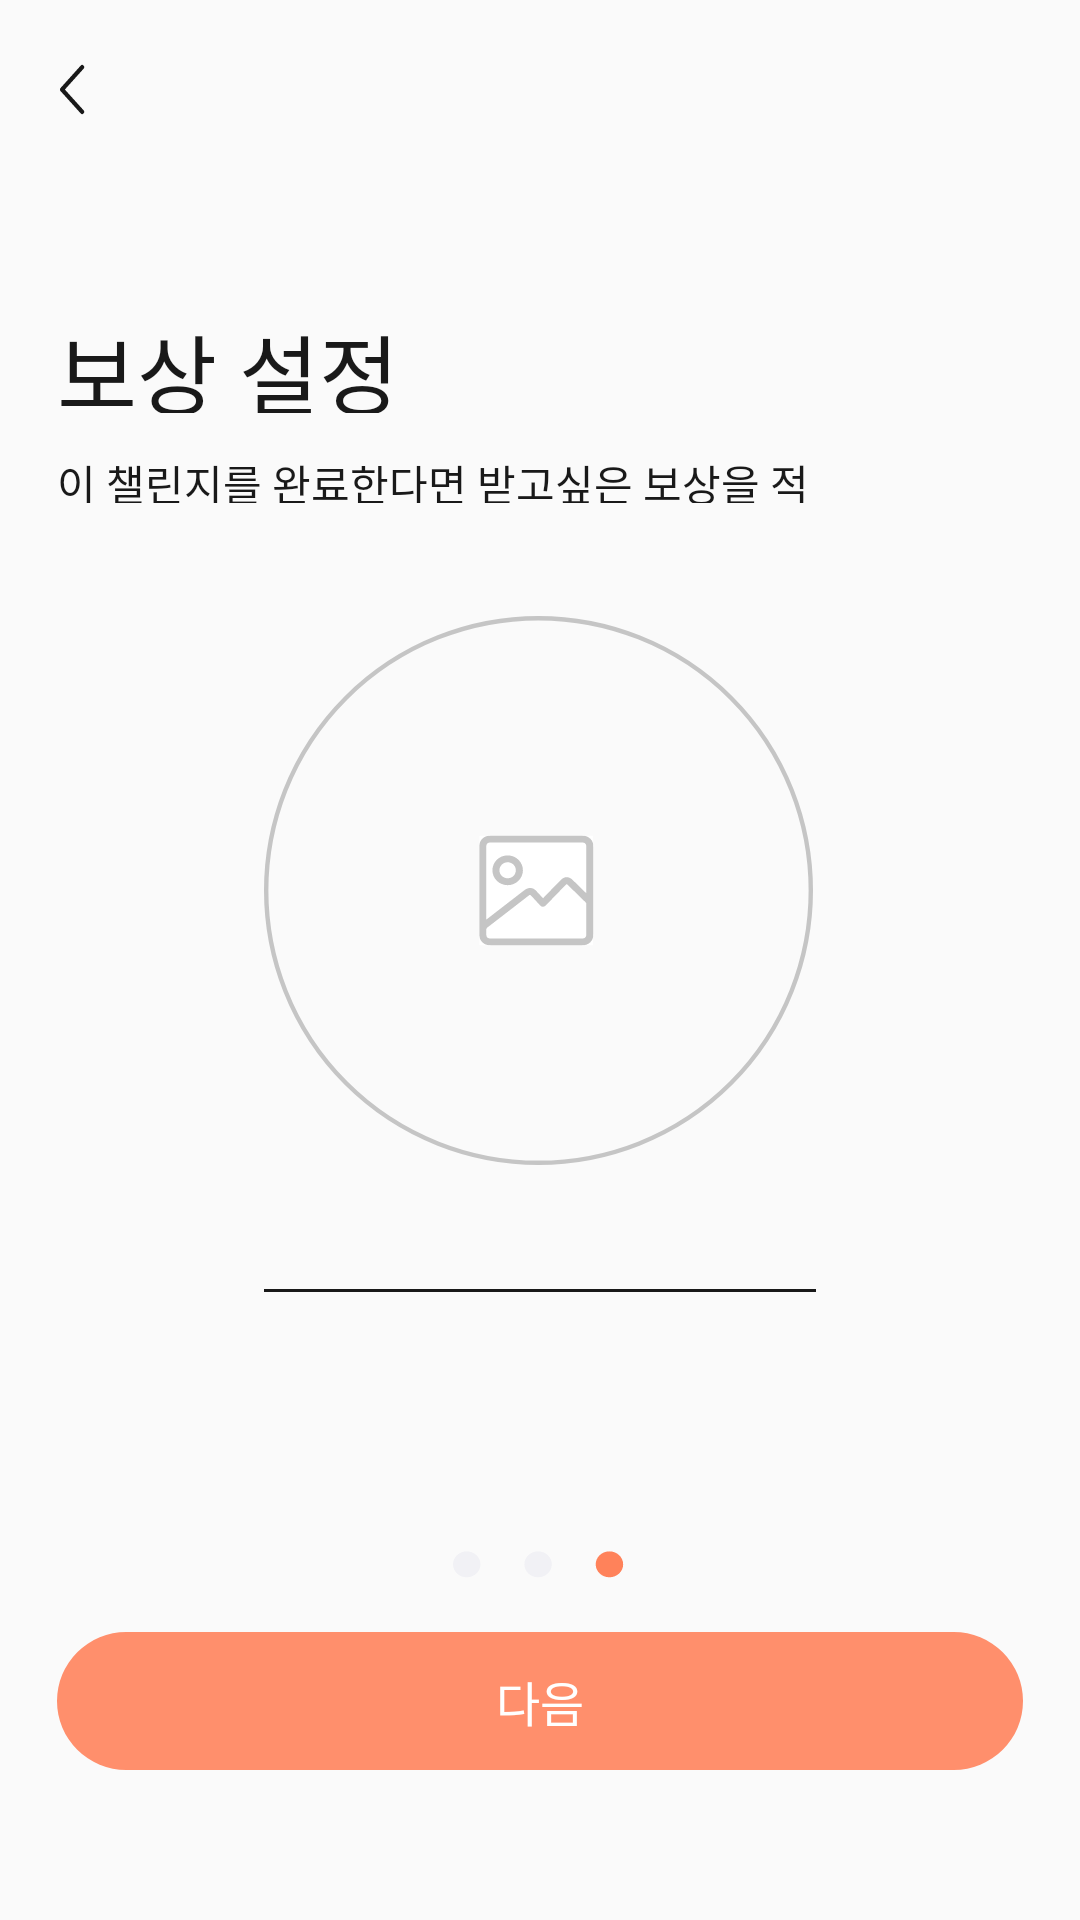

Icon click points for this 1080 x 1920 phone screenshot, format (x=x, y=y):
back: (x=72, y=89)
